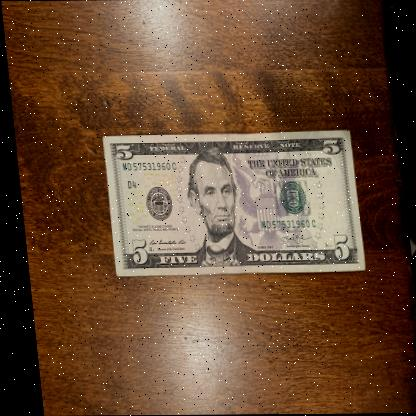five-front: (97, 129, 359, 276)
